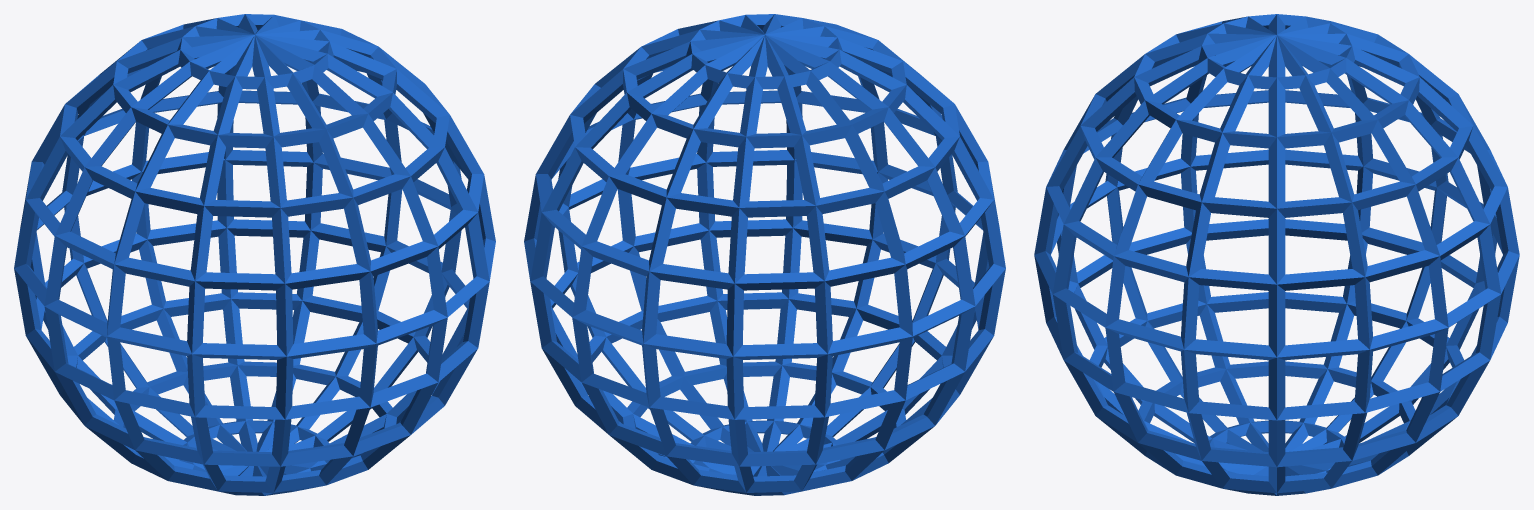
File: globe.glb
3 renders of one model, left to right at view 1: azimuth 30°, elevation 25°; view 2: azimuth 150°, elevation 25°; view 3: azimuth 270°, elevation 25°, orthographic.
Parts seen in each view (by area): view 1: Sphere; view 2: Sphere; view 3: Sphere.
Boxes of the visible parts, x1,y1,x2,y2 form: Sphere: (14, 14, 495, 495); Sphere: (524, 14, 1005, 495); Sphere: (1034, 14, 1519, 495).
Bounding box in the file's own units: 0.7254 × 0.7254 × 0.7254.
